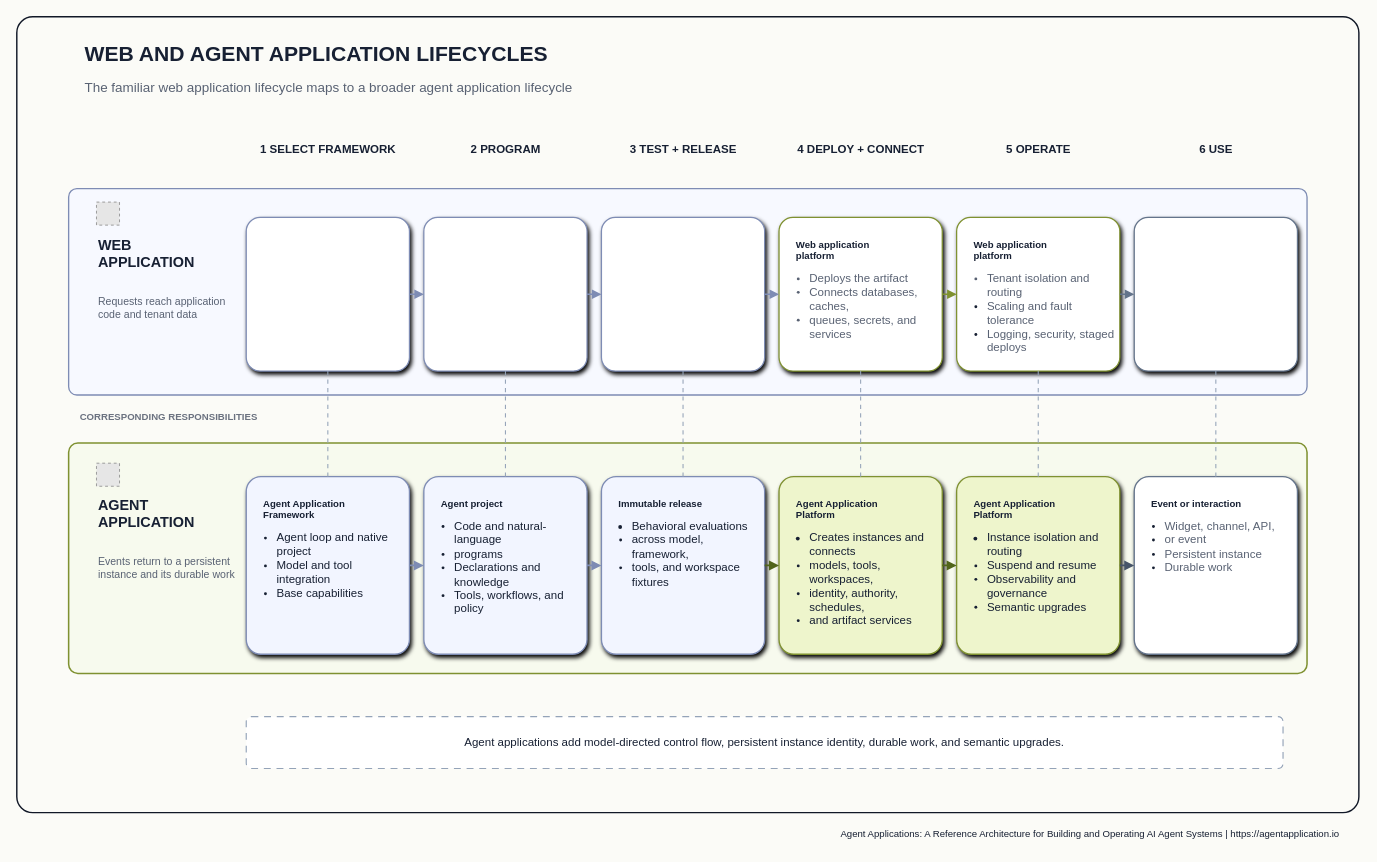
Image size: 1377x862. Some labels were removed from this diagram. Grey dashed boxes stand in for pictures. The shapes that lost their labels are listed below. From the top down, each one's centre as x and y in pixels, then its label:
(x=328, y=295): Web framework Project conventions Language and runtime Base capabilities
(x=506, y=295): Application code Routes and interface Business logic Data access
(x=684, y=295): Deployment artifact Built after software tests Fixed version for deployment
(x=1216, y=295): Request Browser or API Application code Tenant data
